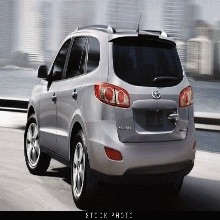no damage: (23, 24, 197, 209)
